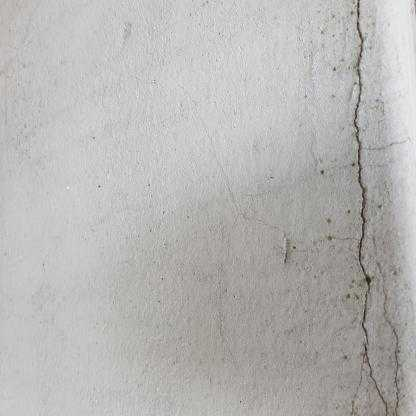crack: (352, 1, 389, 414), (377, 260, 401, 415)
